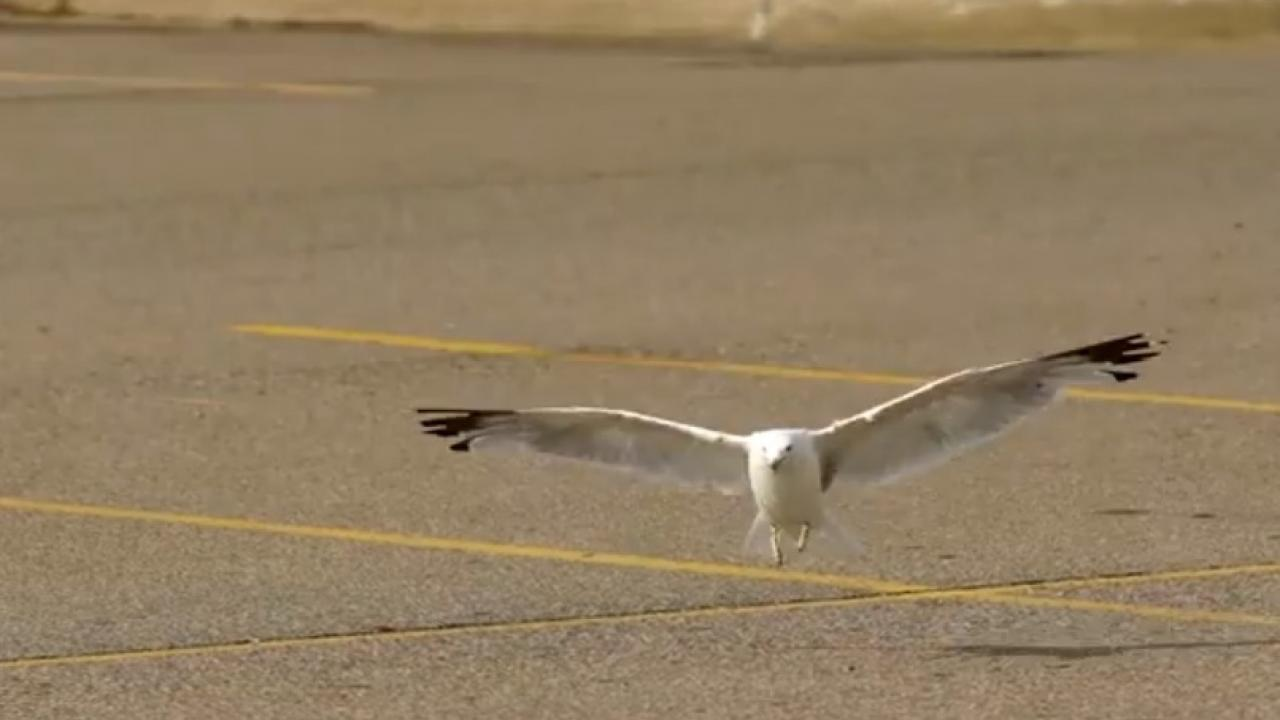Bird: (404, 320, 1188, 575)
